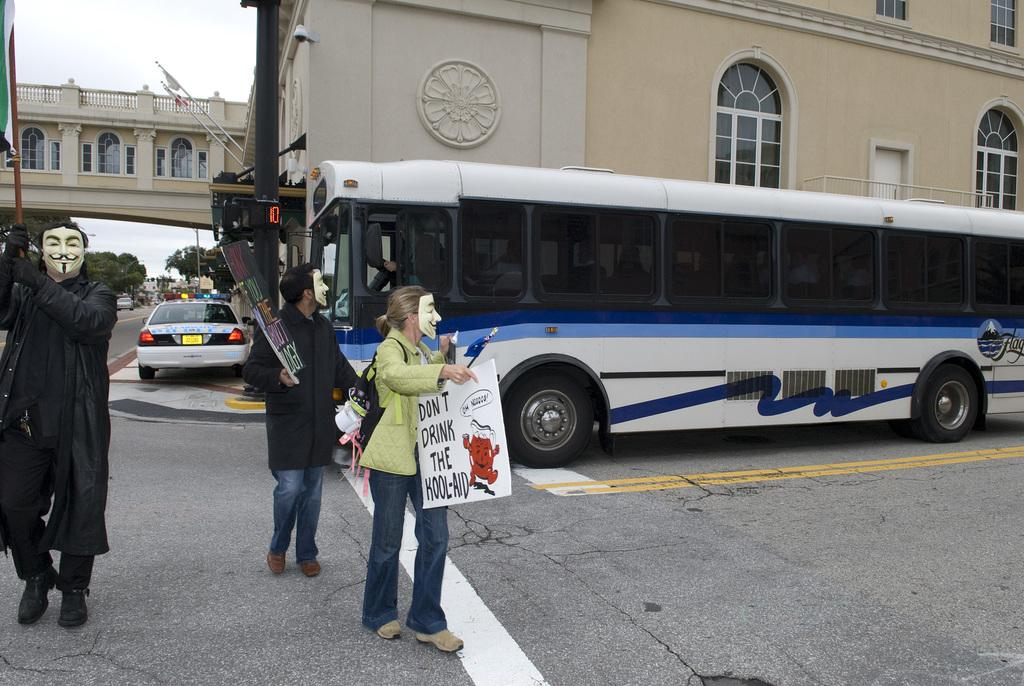vehicle: (286, 157, 1024, 468), (137, 291, 255, 381)
